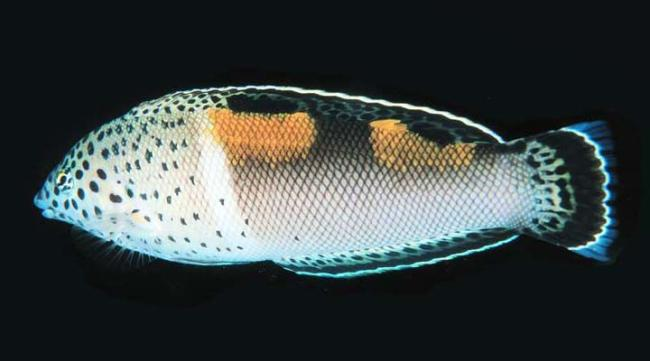fish: (34, 85, 618, 278)
